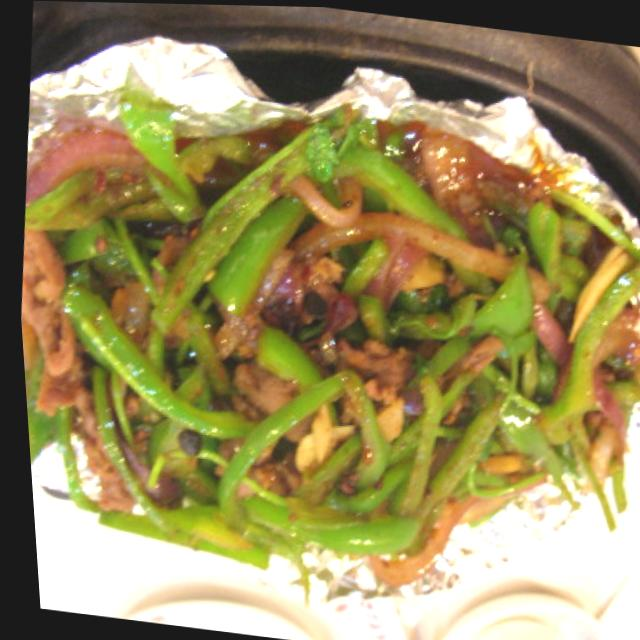牛肉菜式: (3, 48, 640, 640)
